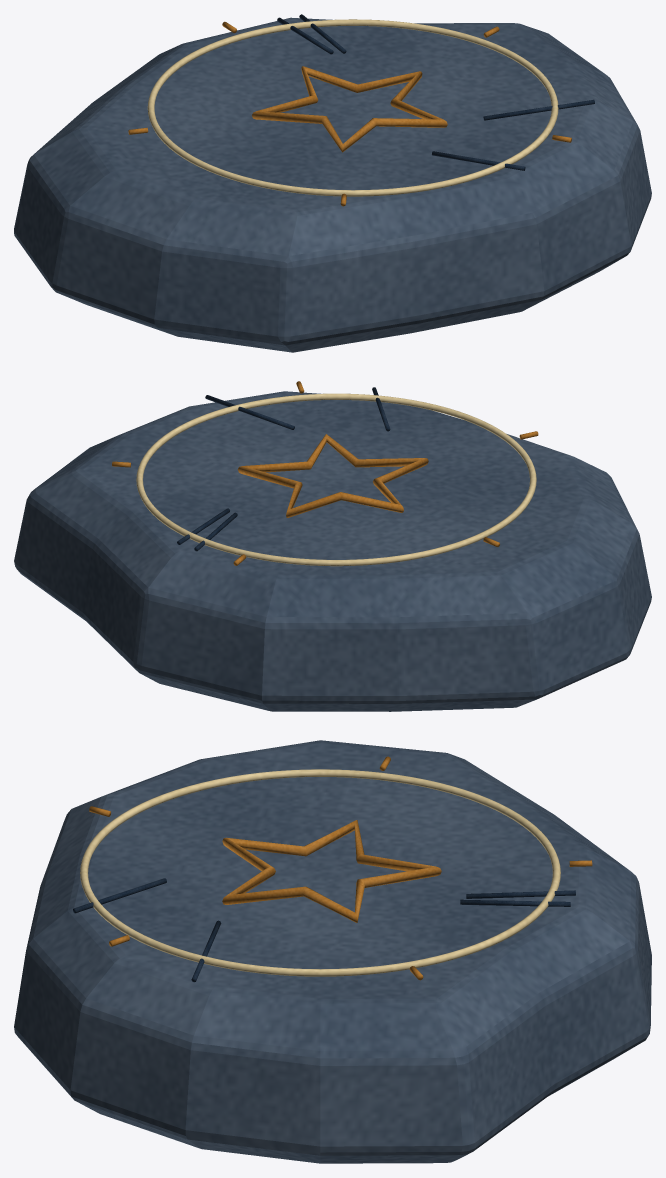
Rendered from ShadowStone1.fbx.
The picture shows the model from 3 angles, top to bottom: view 1: azimuth 30°, elevation 25°; view 2: azimuth 150°, elevation 25°; view 3: azimuth 270°, elevation 25°; orthographic projection. The views are drawn at different scales.
Parts seen in each view (by area): view 1: River stone.009, Weathered border.009, Inlaid wish sigil.015, Mineral seam.039; view 2: River stone.009, Weathered border.009, Inlaid wish sigil.015; view 3: River stone.009, Weathered border.009, Inlaid wish sigil.015.
Boxes of the visible parts, bbox=[...] form: River stone.009: bbox=[14, 17, 651, 352]; Weathered border.009: bbox=[147, 19, 558, 196]; Inlaid wish sigil.015: bbox=[252, 66, 447, 152]; Mineral seam.039: bbox=[483, 99, 594, 120]; River stone.009: bbox=[14, 391, 651, 711]; Weathered border.009: bbox=[136, 393, 536, 566]; Inlaid wish sigil.015: bbox=[237, 434, 428, 517]; River stone.009: bbox=[14, 740, 651, 1163]; Weathered border.009: bbox=[80, 769, 560, 976]; Inlaid wish sigil.015: bbox=[222, 820, 441, 922].
Bounding box in the file's own units: 173 × 40.9 × 143.
Materials: 4 (4 with a texture image).
